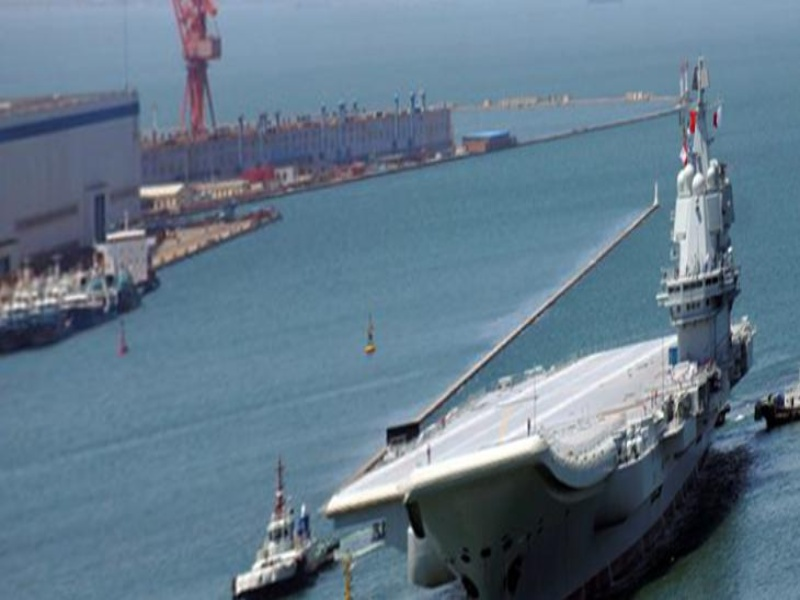boat: (216, 467, 327, 592)
carrier: (322, 188, 755, 587)
